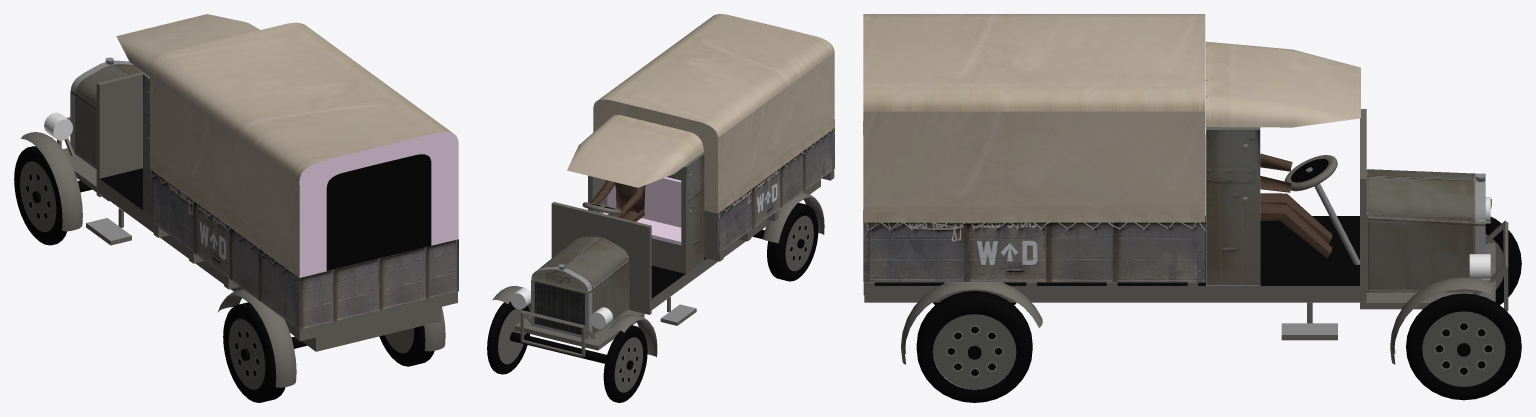
File: truck_ww1.glb
3 views of the same model, side by side, from view 1: azimuth 30°, elevation 25°; view 2: azimuth 150°, elevation 25°; view 3: azimuth 270°, elevation 25° (orthographic). The views are drawn at different scales.
Parts seen in each view (by area): view 1: body, axleR, axleF; view 2: body, axleF, axleR, crew; view 3: body, axleF, axleR, crew.
Part boxes in pixels (<box>): body: <box>21,14,458,387</box>; axleR: <box>223,302,434,402</box>; axleF: <box>14,146,91,245</box>; body: <box>492,14,834,357</box>; axleF: <box>487,301,647,402</box>; axleR: <box>753,202,818,281</box>; crew: <box>591,180,645,221</box>; body: <box>863,14,1508,364</box>; axleF: <box>1406,217,1521,400</box>; axleR: <box>916,291,1032,402</box>; crew: <box>1260,153,1332,257</box>.
Bounding box in the file's own units: 1.98 × 2.93 × 5.68.
11 materials, 1 textured.
